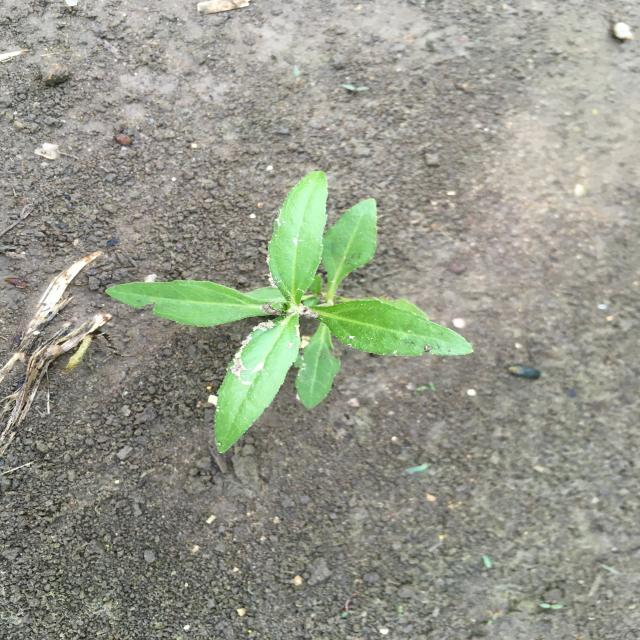Eclipta: (102, 169, 476, 456)
